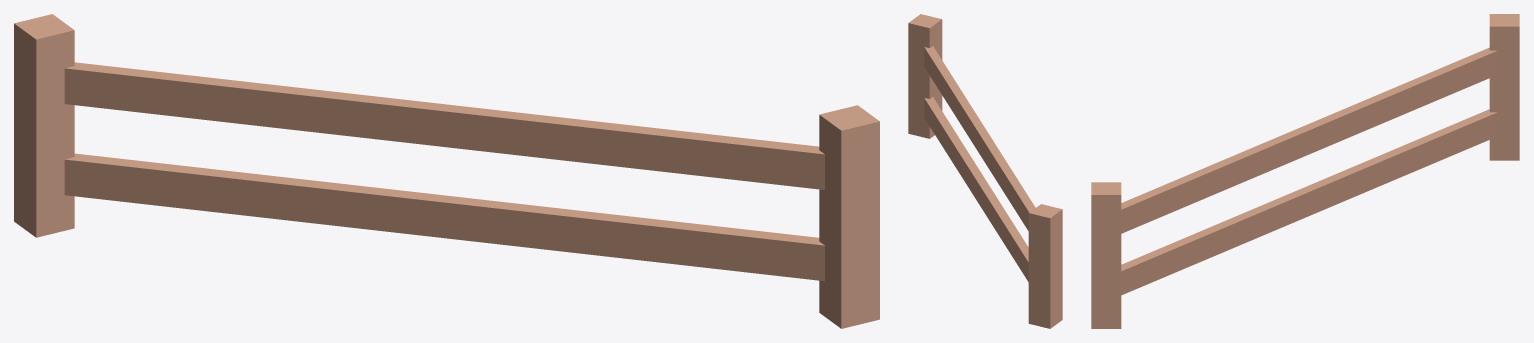
Rendered from fence_simpleDiagonal.glb.
3 renders of one model, left to right at view 1: azimuth 30°, elevation 25°; view 2: azimuth 150°, elevation 25°; view 3: azimuth 270°, elevation 25°, orthographic. The views are drawn at different scales.
Visible parts, largest first — view 1: fence_simpleDiagonal; view 2: fence_simpleDiagonal; view 3: fence_simpleDiagonal.
Boxes of the visible parts, bbox=[...] form: fence_simpleDiagonal: bbox=[14, 14, 879, 328]; fence_simpleDiagonal: bbox=[908, 14, 1062, 328]; fence_simpleDiagonal: bbox=[1091, 14, 1519, 328].
Bounding box in the file's own units: 1 × 0.345 × 1.
